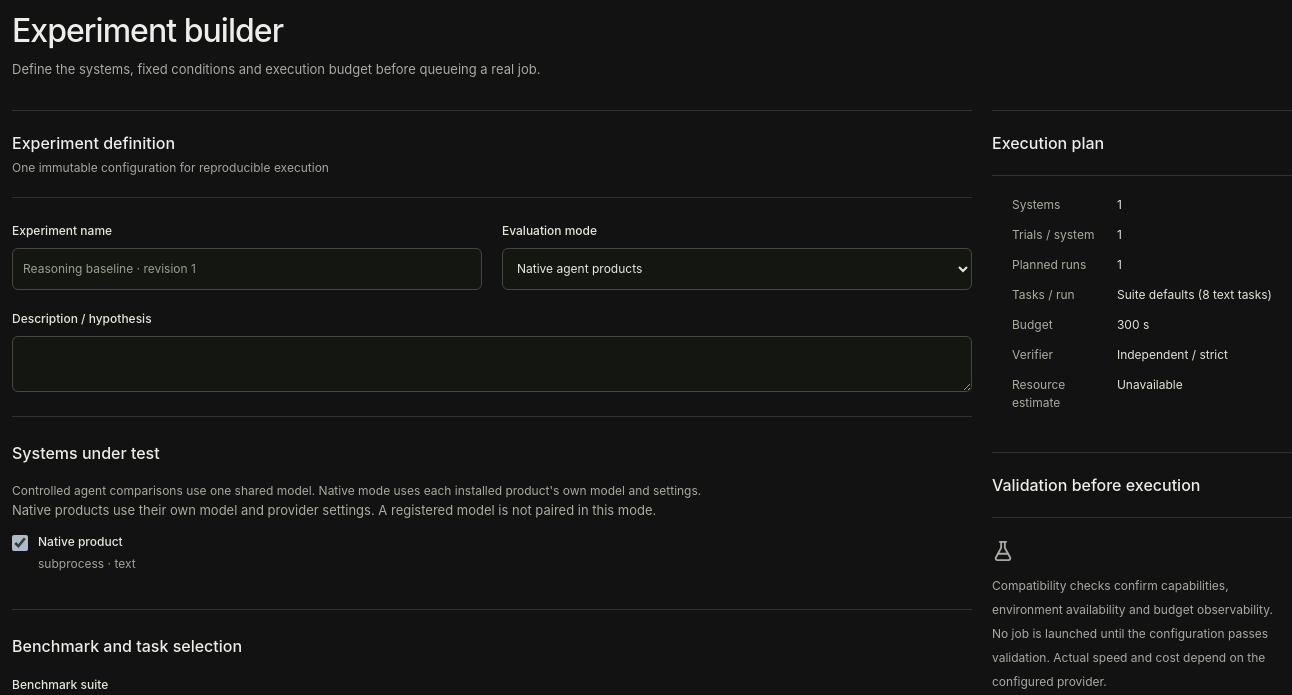
Test: keeps native product settings separate from controlled model pairing
expect the checkbox labelled "Native product subprocess · text" is checked: met, box [12,535,28,551]
expect the field labelled "Shared model for agent evaluation" is not shown: met
Select "Agents with one shared model" in the dropdown labelled "Evaluation mode": {"x": 737, "y": 269} [502,248,972,290]
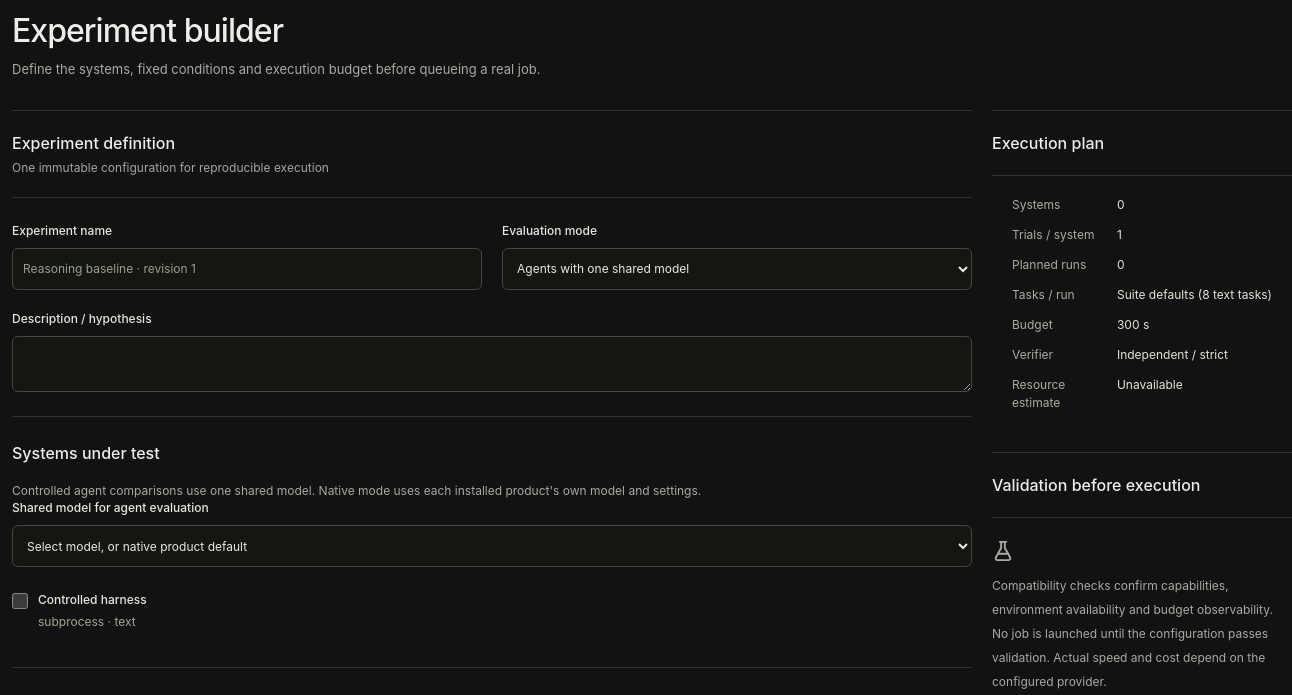
expect the dropdown labelled "Shared model for agent evaluation" is shown: met, box [12,525,972,567]
expect the checkbox labelled "Controlled harness subprocess · text" is not checked: met, box [12,593,28,609]
